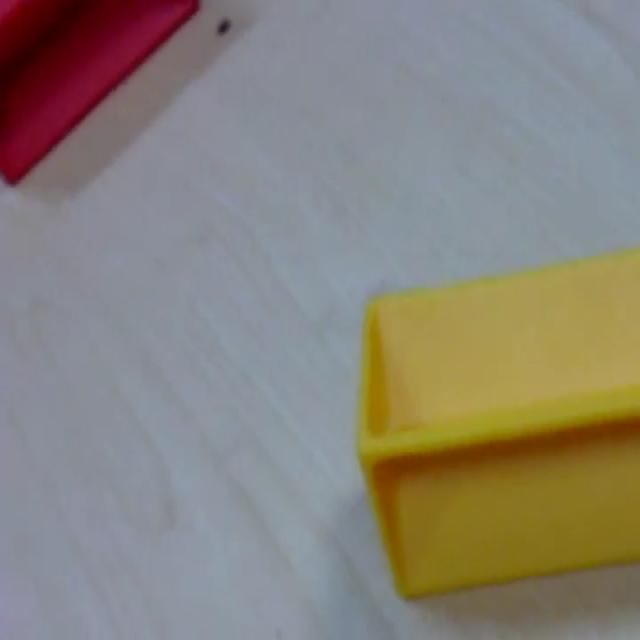red_block: (1, 0, 199, 187)
yellow_block: (356, 243, 638, 600)
